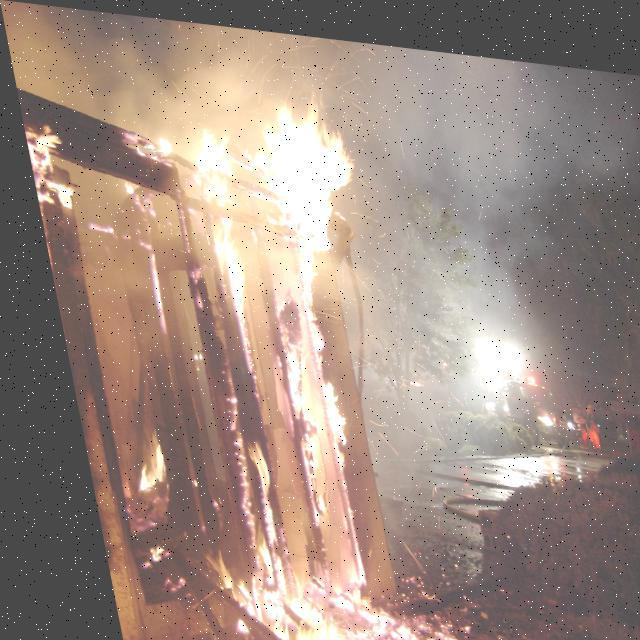Fire: (22, 66, 438, 639)
